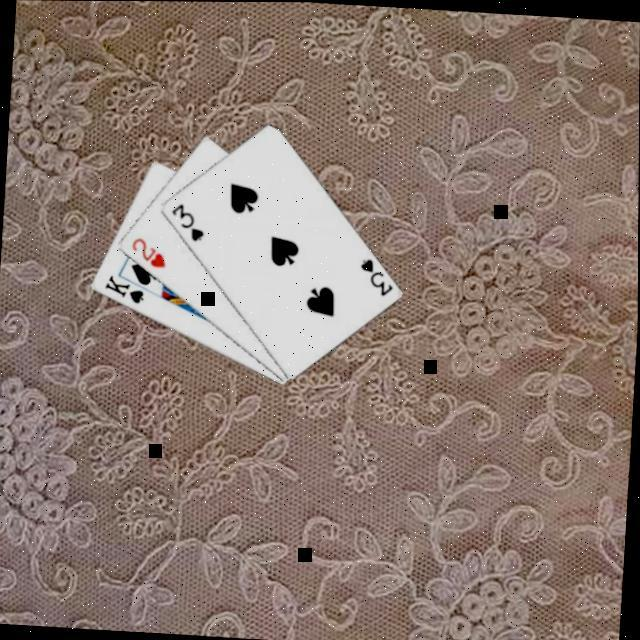2H: (126, 235, 170, 272)
3S: (165, 200, 208, 246), (354, 256, 396, 300)
KS: (100, 272, 148, 307)
